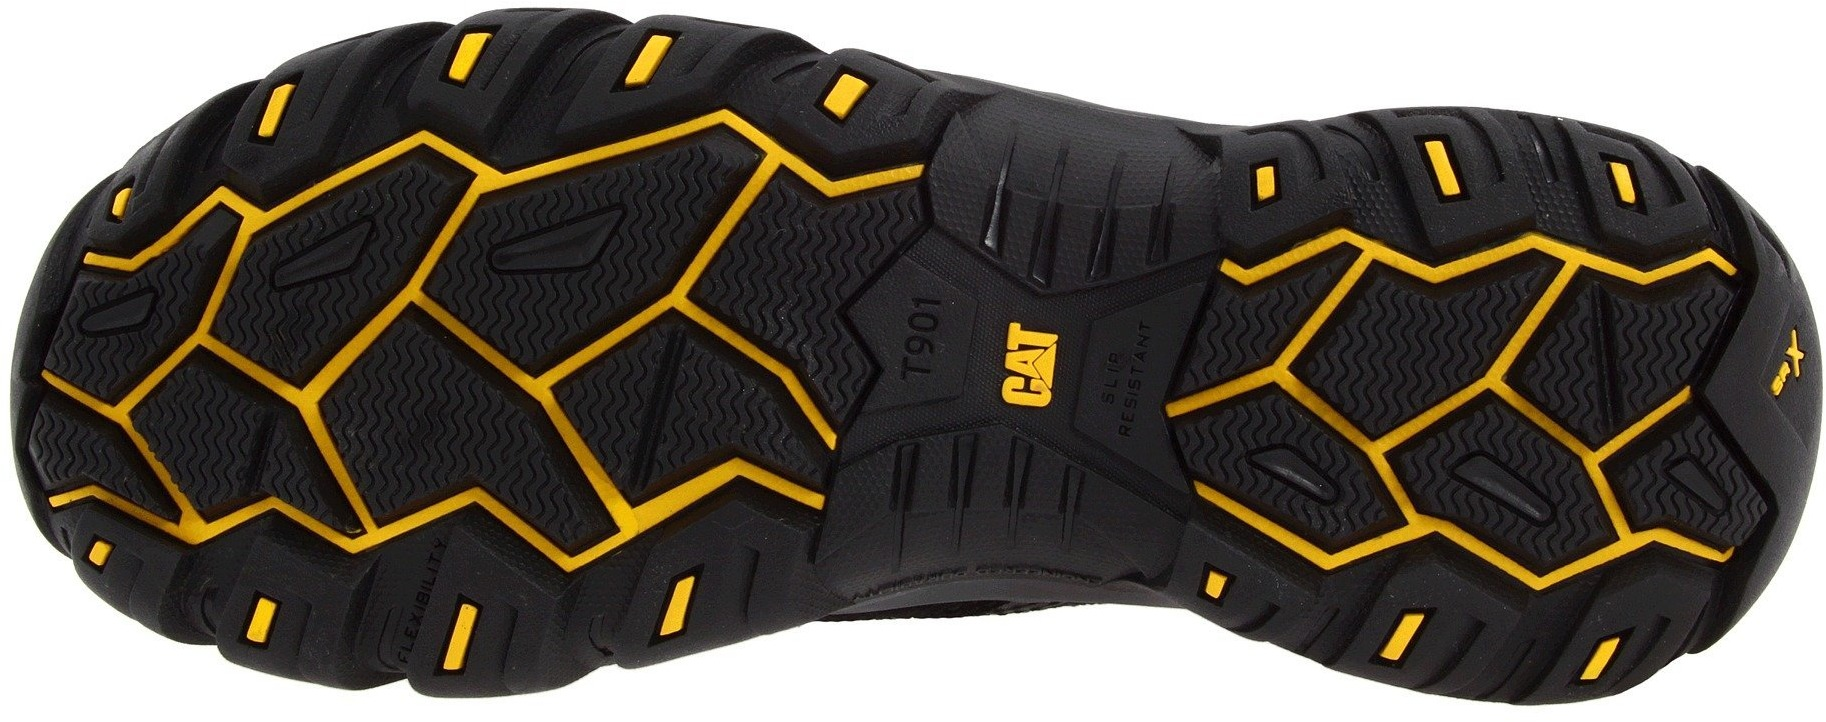chevron: (1352, 214, 1747, 566), (28, 207, 415, 544), (415, 17, 702, 282), (371, 514, 600, 710), (413, 374, 509, 482)
circle: (866, 283, 976, 392)
line: (1352, 214, 1747, 566), (28, 207, 415, 544), (415, 17, 702, 282), (371, 514, 600, 710), (967, 116, 1179, 306), (896, 418, 1048, 555)
quad: (1352, 214, 1747, 566), (28, 207, 415, 544), (415, 17, 702, 282), (371, 514, 600, 710)
text: (371, 514, 600, 710), (968, 314, 1082, 424), (866, 283, 976, 392), (1106, 328, 1170, 436), (1742, 323, 1816, 402)
triangle: (968, 314, 1082, 424)
